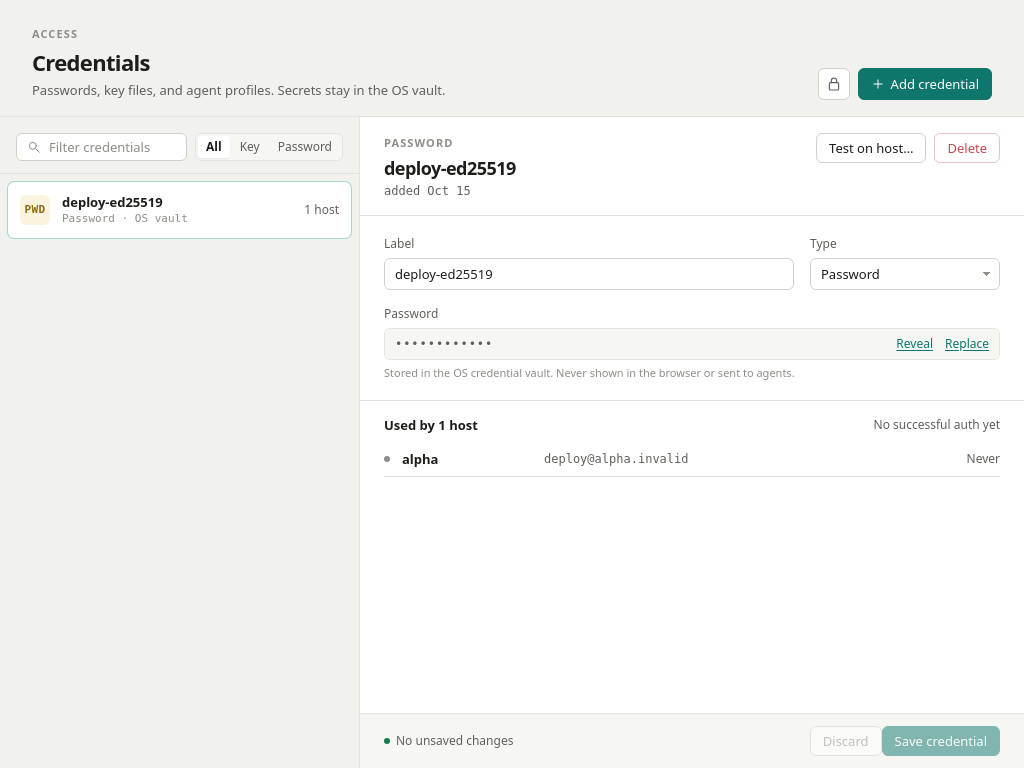
requires the exact label before deleting and explains the fallback
The width and height of the screenshot is (1024, 768).
Click the button "Delete": coordinates (967, 148) [934,133,1000,163]
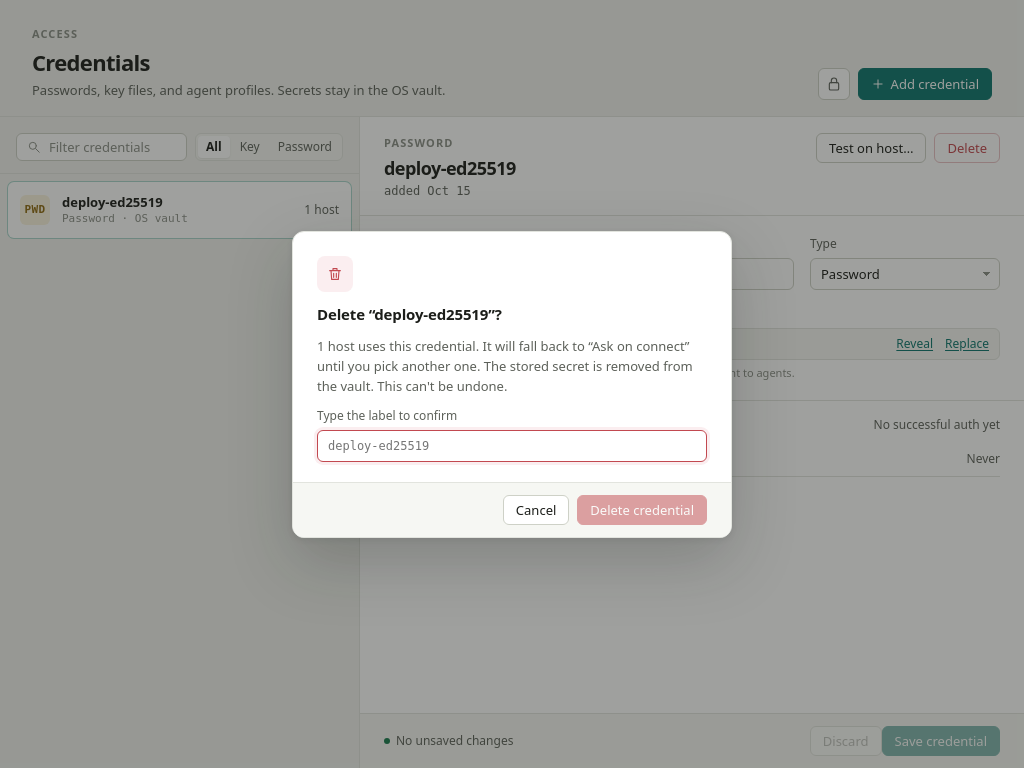
Expected: the text "1 host uses this credential" is shown, [317,336,690,374]
Expected: the text "This can't be undone." is shown, [374,376,507,394]
Expected: the button "Delete credential" is disabled, [577,494,707,524]
In the field labelled "Type the label to confirm": coordinates (512, 446) [317,430,707,462], type "deploy"
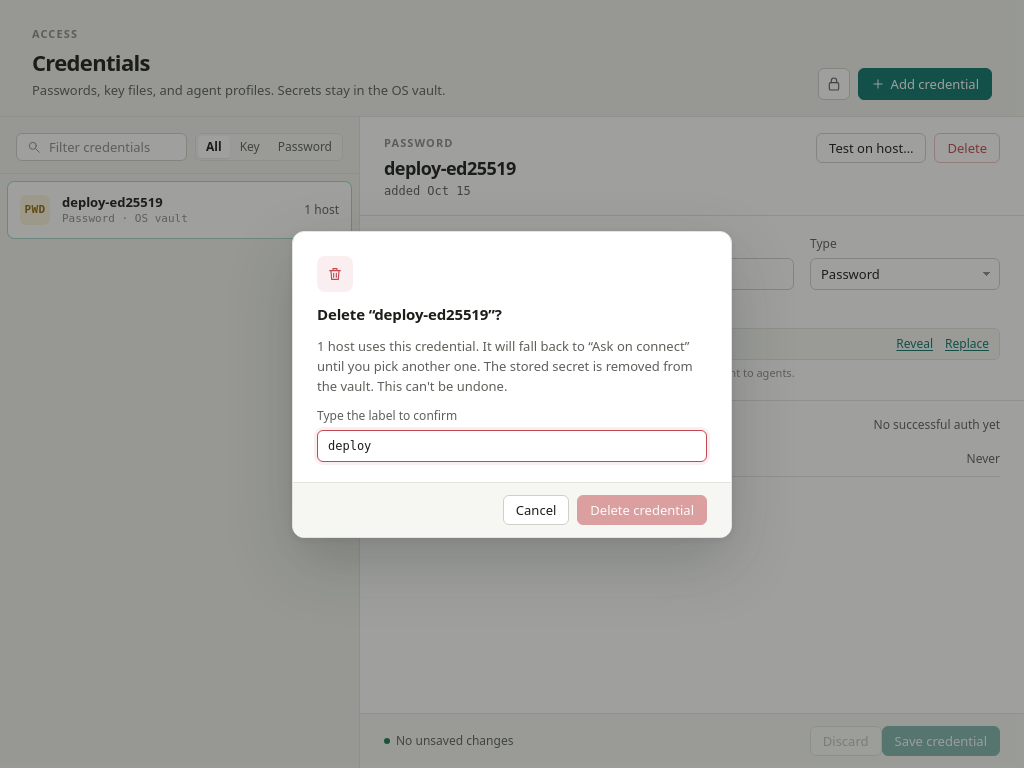
Expected: the button "Delete credential" is disabled, [577,494,707,524]
Replace the text in the field labelled "Type the label to confirm" with "deploy-ed25519": coordinates (512, 446) [317,430,707,462]
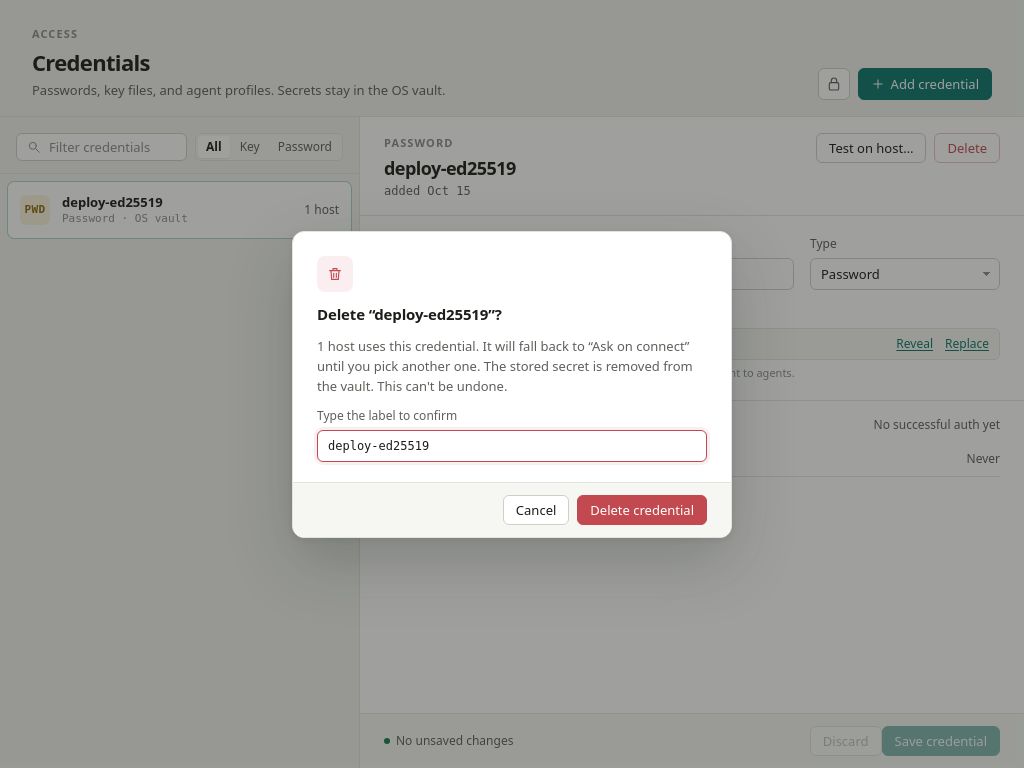
Expected: the button "Delete credential" is enabled, [577,494,707,524]
